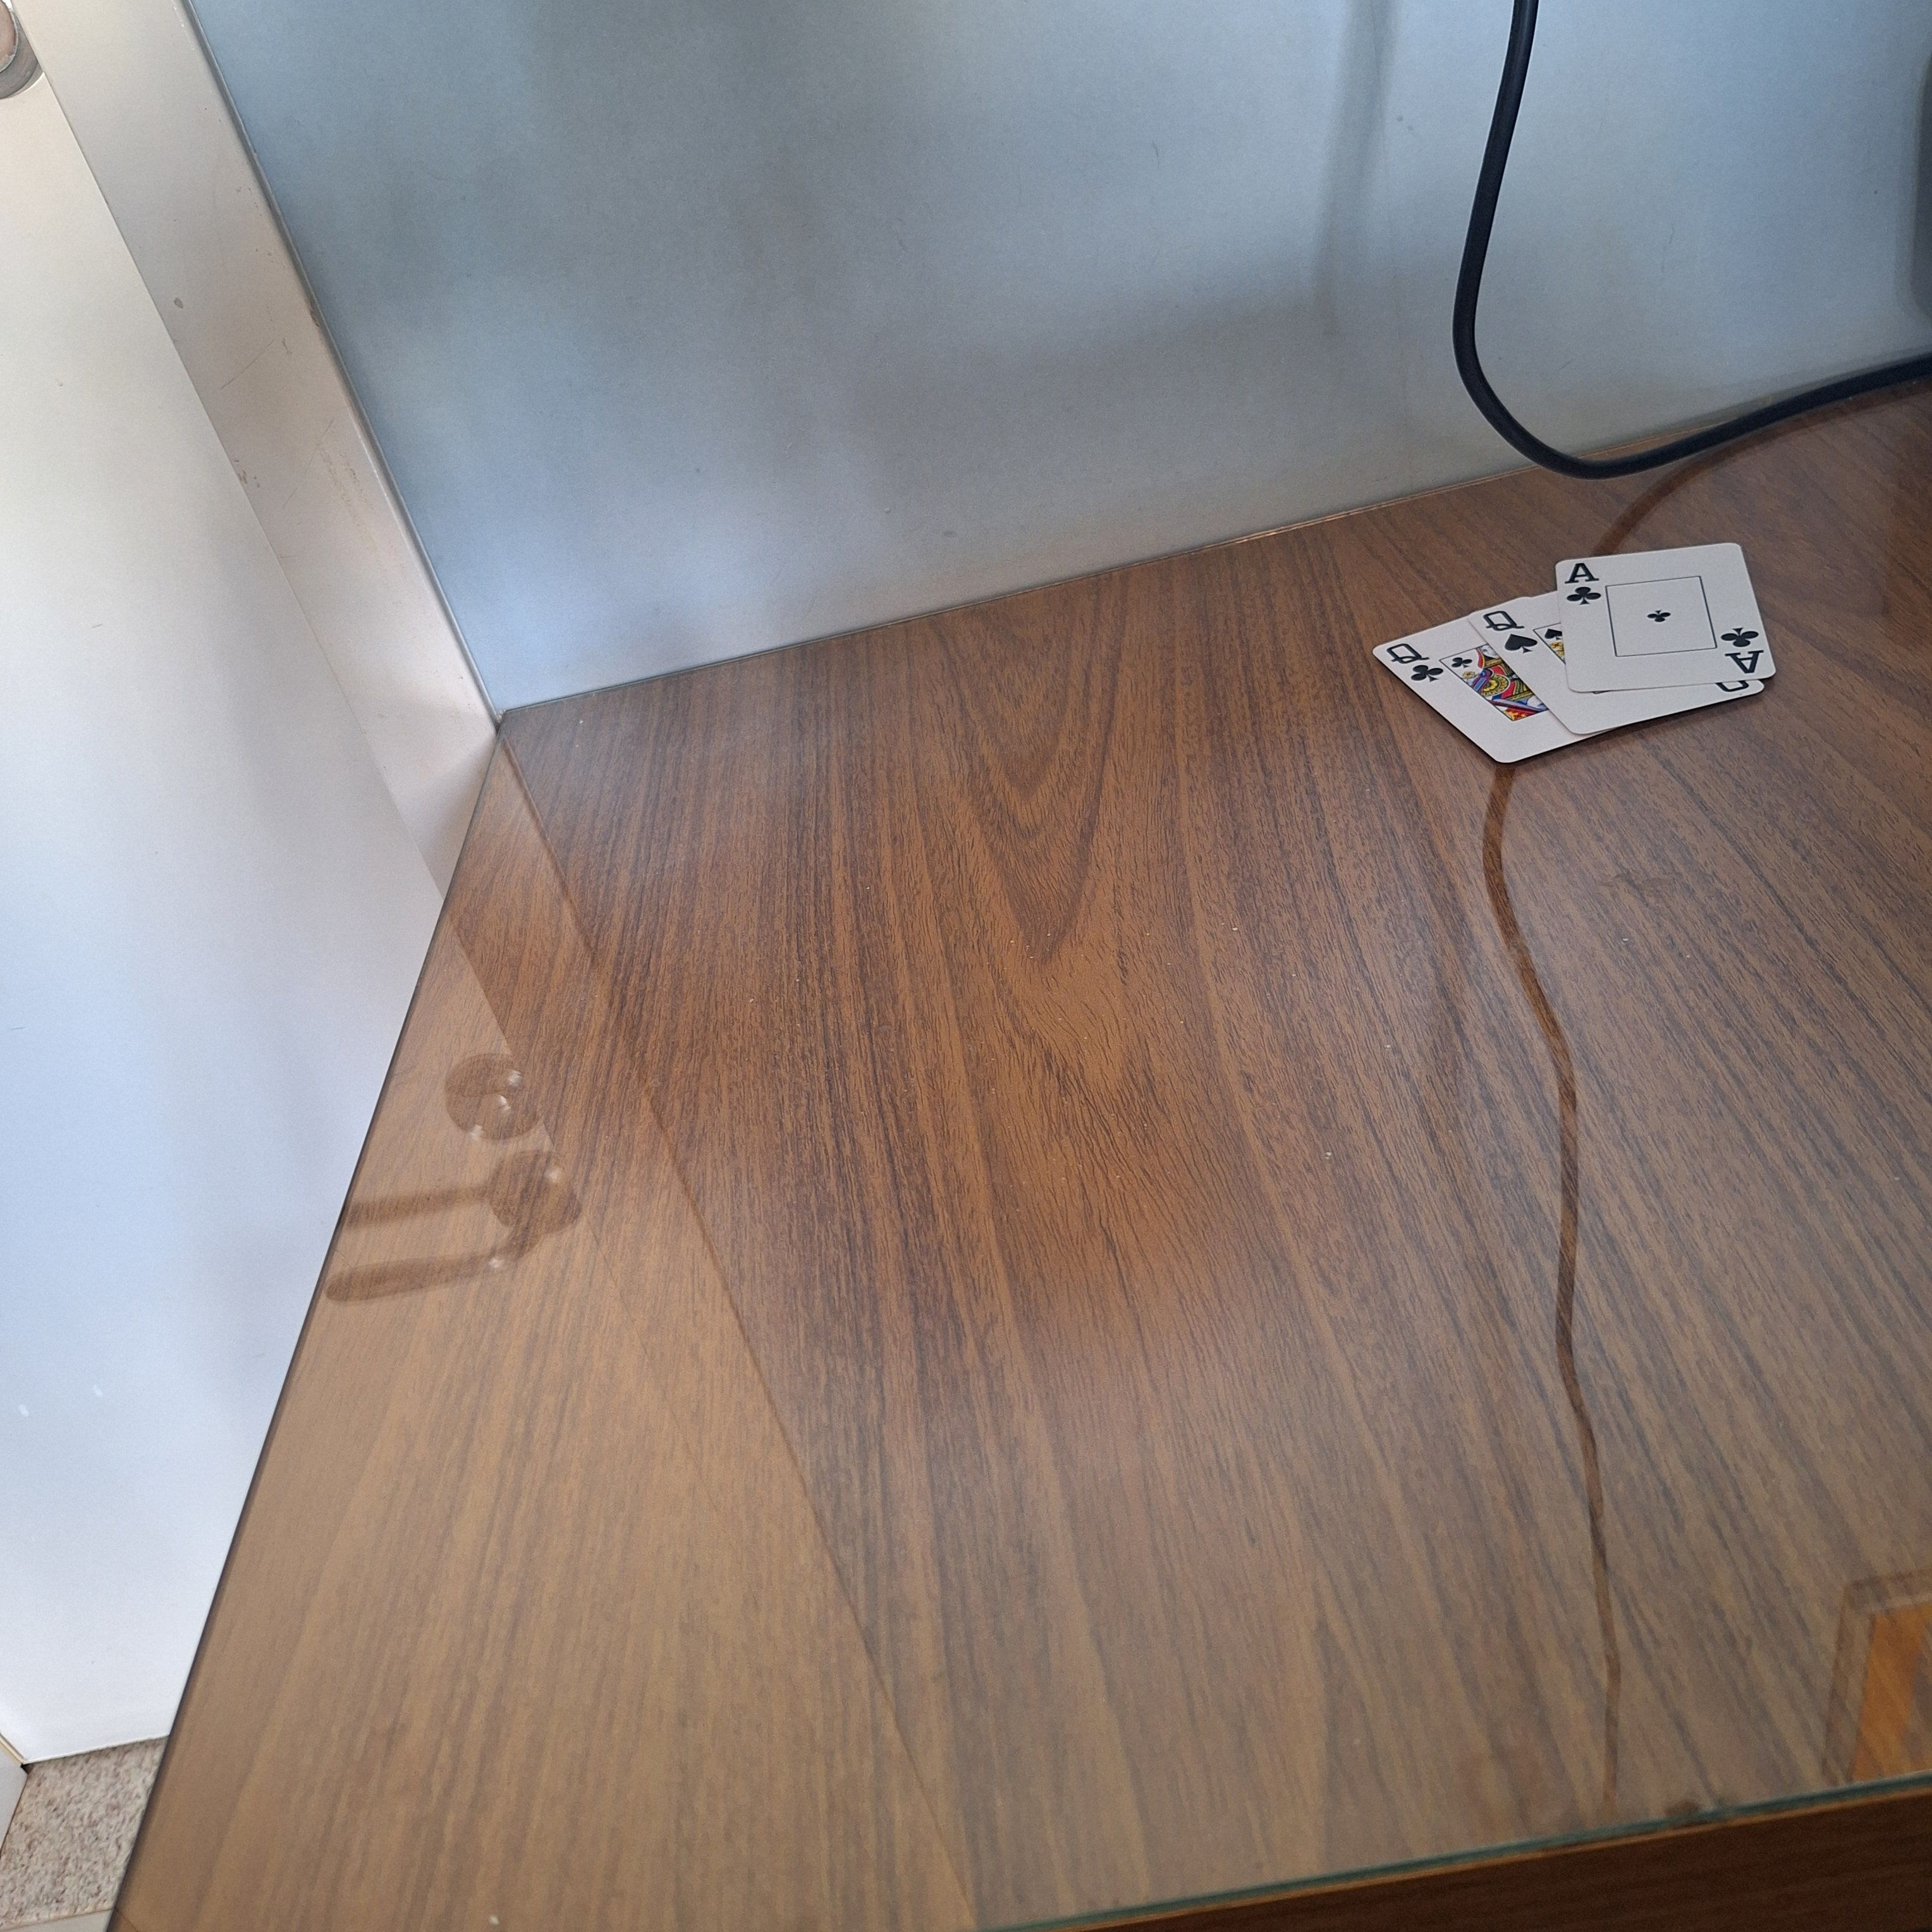AP: (1713, 619, 1783, 681), (1555, 554, 1614, 617)
QE: (1477, 605, 1541, 656)
QP: (1380, 637, 1451, 688)
